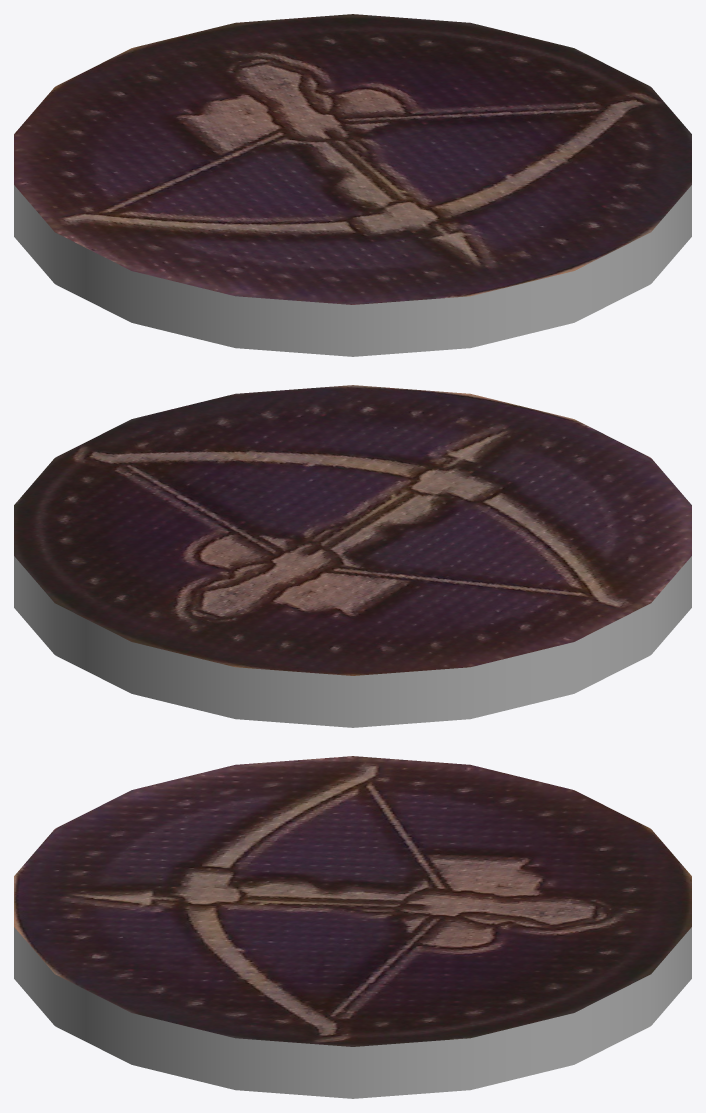
Rendered from Aiming.FBX.
3 views of the same model, one above another, from view 1: azimuth 30°, elevation 25°; view 2: azimuth 150°, elevation 25°; view 3: azimuth 270°, elevation 25° (orthographic).
Parts seen in each view (by area): view 1: Object001, Cylinder001; view 2: Object001, Cylinder001; view 3: Object001, Cylinder001.
Part boxes in pixels (<box>): Object001: <box>14,14,691,304</box>; Cylinder001: <box>14,185,691,356</box>; Object001: <box>14,385,691,675</box>; Cylinder001: <box>14,556,691,727</box>; Object001: <box>14,756,691,1046</box>; Cylinder001: <box>14,927,691,1098</box>.
Bounding box in the file's own units: 48.09 × 4 × 47.36.
